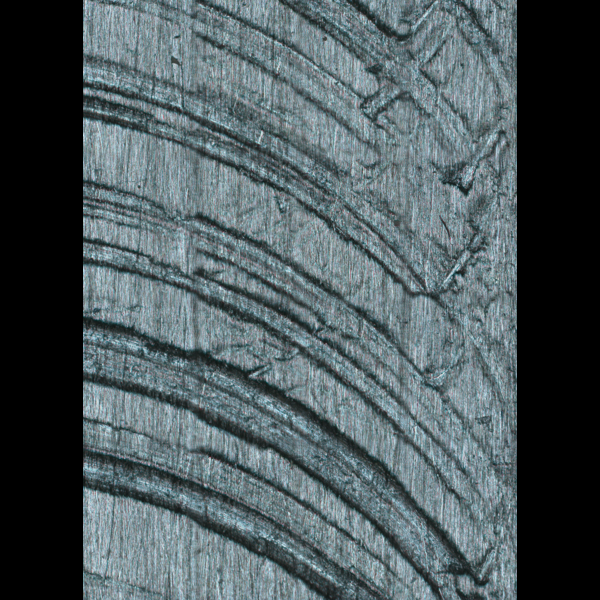d: (88, 0, 516, 595)
